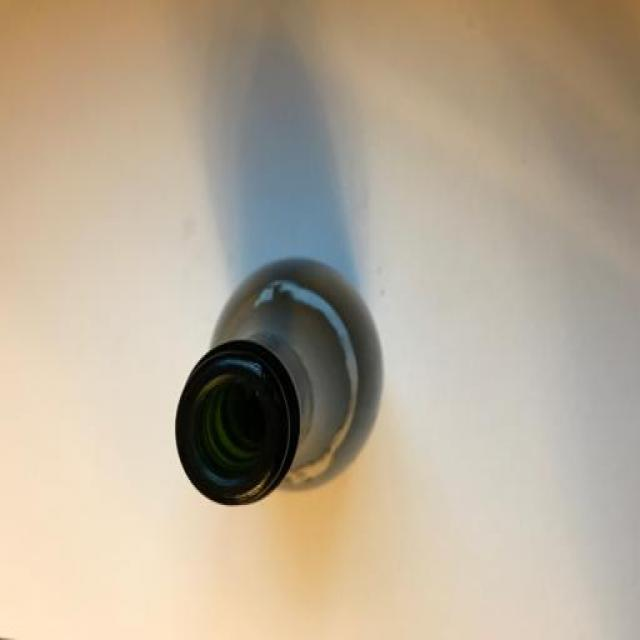glass: (158, 236, 405, 544)
